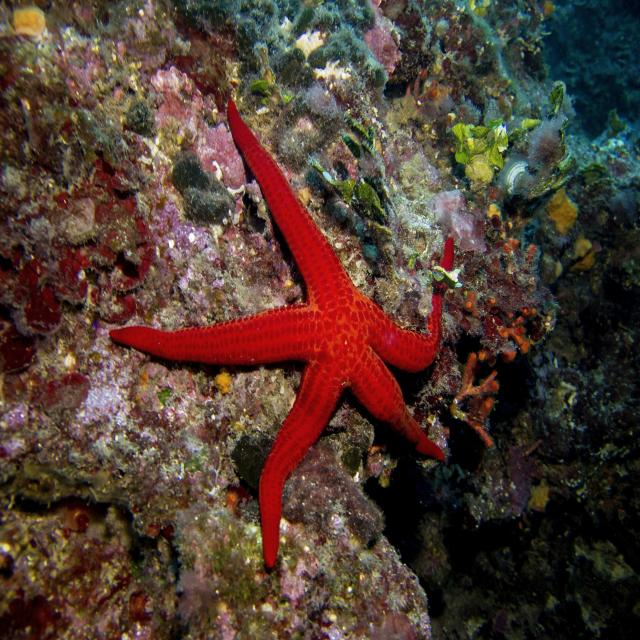starfish: (110, 100, 443, 567)
